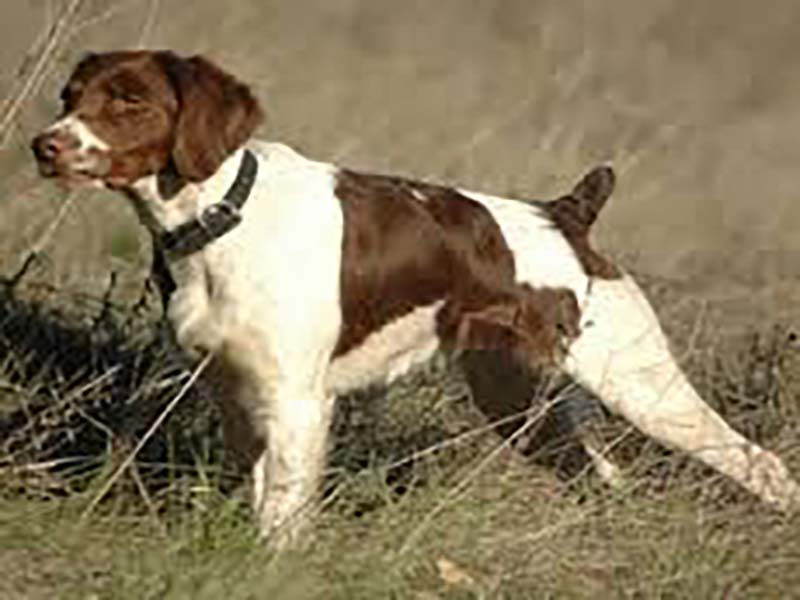cane da caccia: (35, 47, 800, 527)
